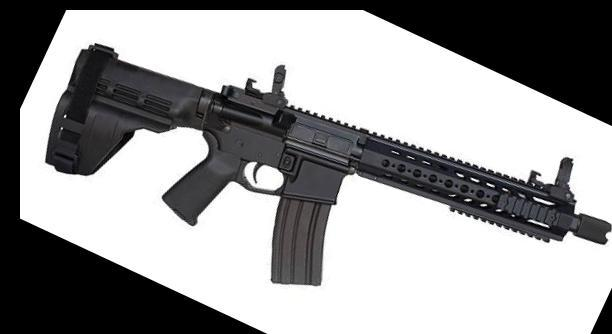larga: (45, 42, 612, 288)
